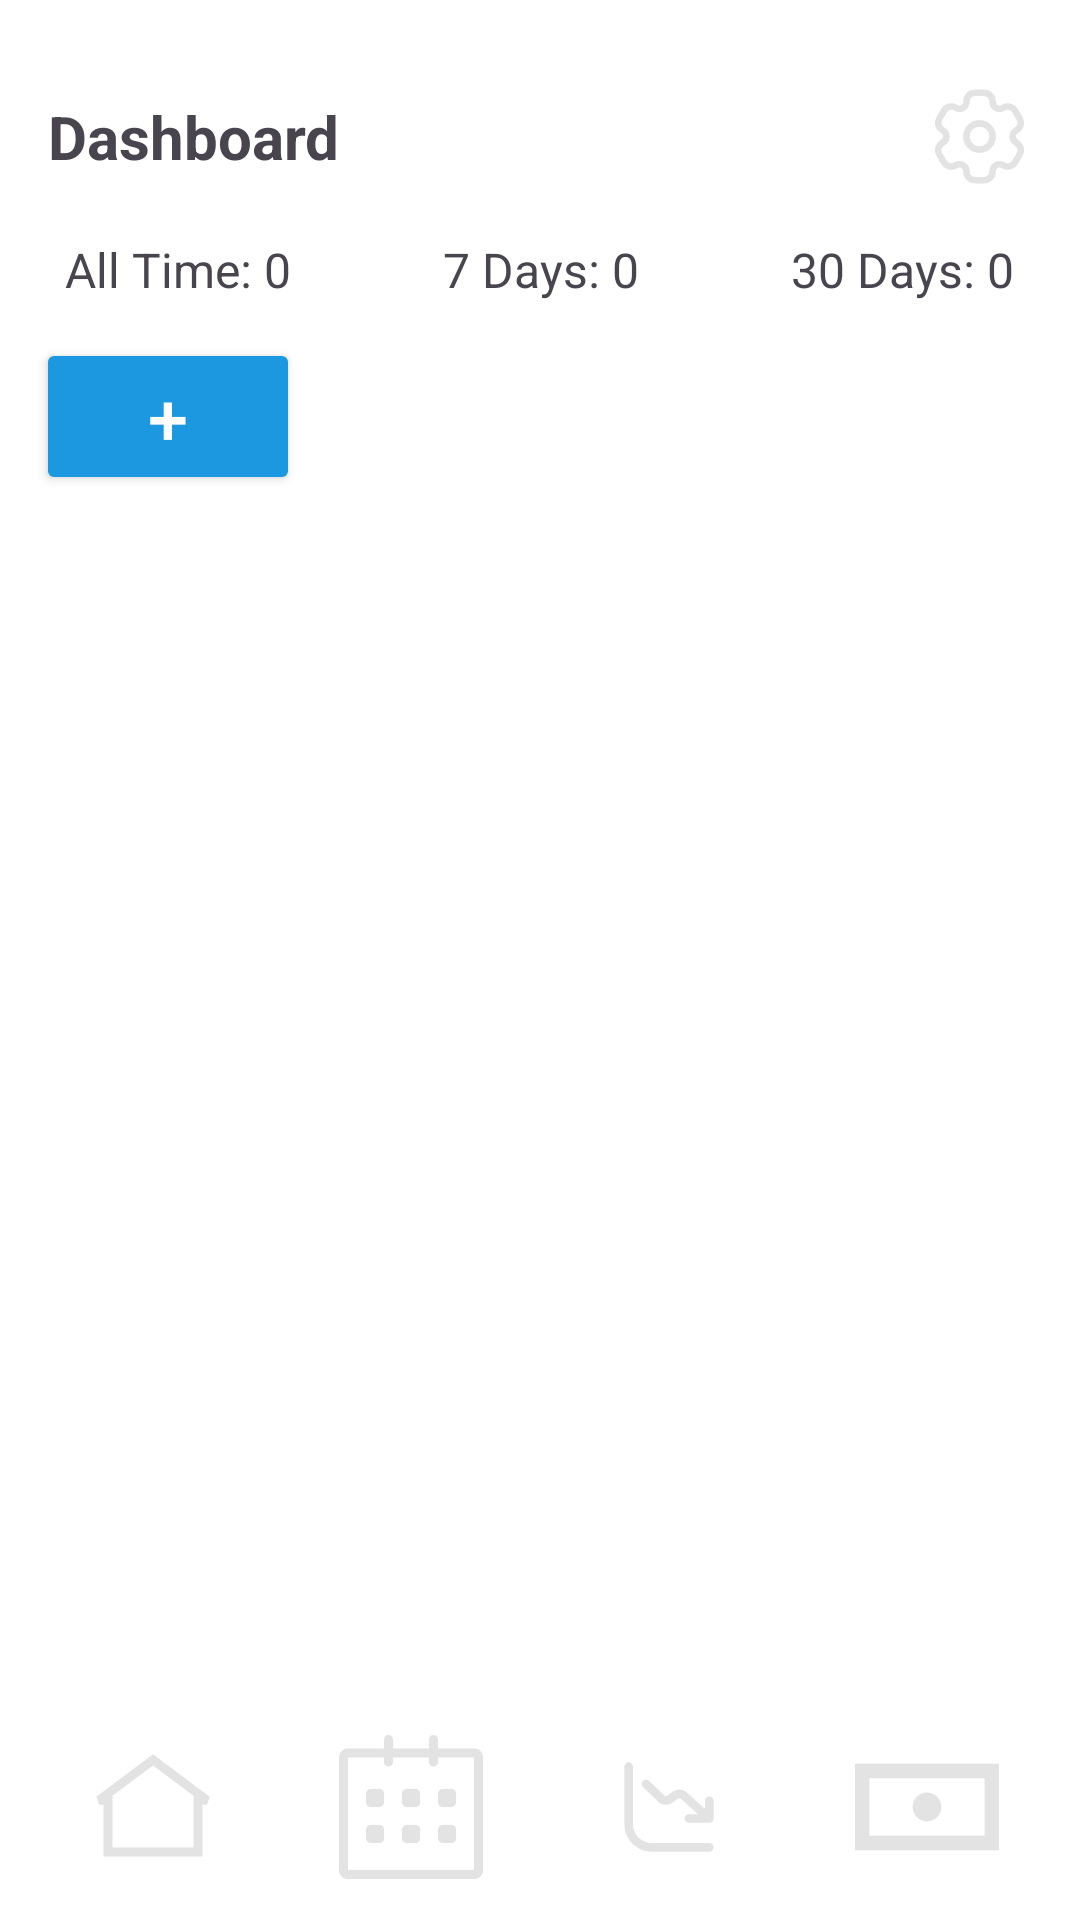

Icons on this 1080w x 1920h Android screen, each with its box as (x1, y1, x2, y2):
Calendar: (339, 1735, 483, 1879)
Home: (97, 1755, 209, 1856)
Settings: (935, 90, 1024, 183)
